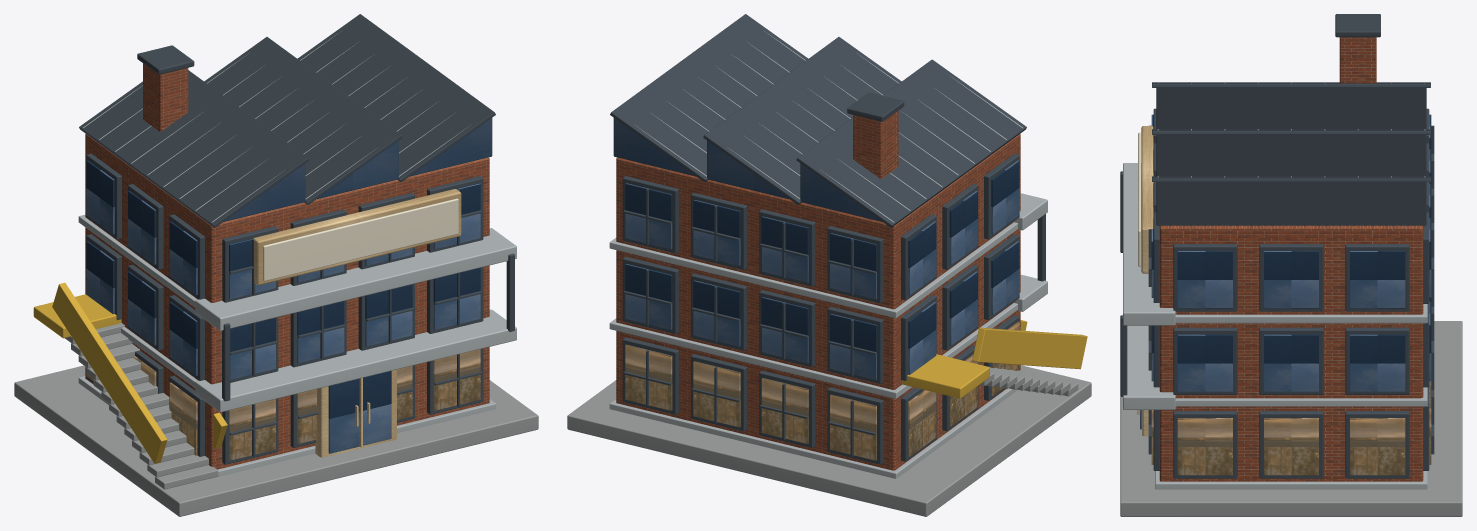
Rendered from level-3-web.glb.
3 views of the same model, side by side, from view 1: azimuth 30°, elevation 25°; view 2: azimuth 150°, elevation 25°; view 3: azimuth 270°, elevation 25° (orthographic). The views are drawn at different scales.
Visible parts, largest first — view 1: body, roof, floors, foundation, entrance, sign; view 2: body, roof, foundation, floors, entrance; view 3: body, roof, foundation, floors, sign.
Boxes of the visible parts, x1,y1,x2,y2 form: body: (85,134,489,469); roof: (79,14,495,227); floors: (78,214,516,478); foundation: (14,365,538,516); entrance: (33,282,396,489); sign: (253,189,461,285); body: (616,134,1020,470); roof: (610,14,1026,227); foundation: (567,365,1091,516); floors: (609,193,1047,478); entrance: (902,320,1087,398); body: (1148,108,1434,481); roof: (1152,14,1430,225); foundation: (1120,321,1462,516); floors: (1120,163,1427,489); sign: (1138,126,1153,273).
Bounding box in the file's own units: 5 × 4.58 × 3.9.
Materials: 10 (4 with a texture image).
